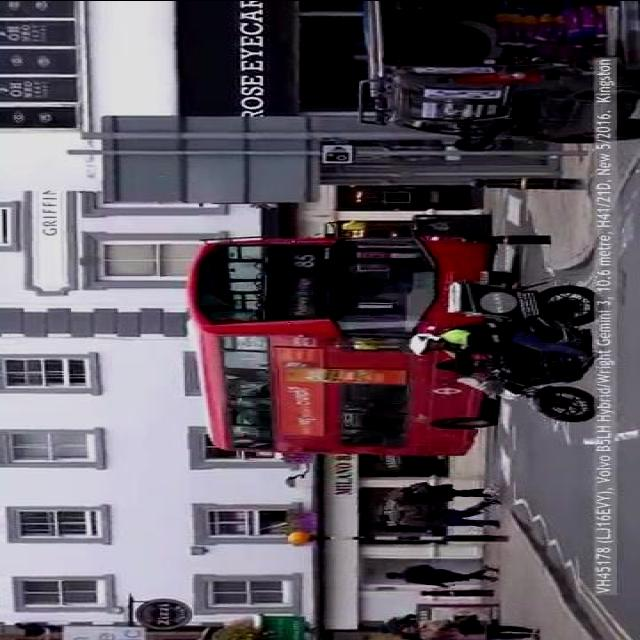bus: (202, 227, 497, 457)
